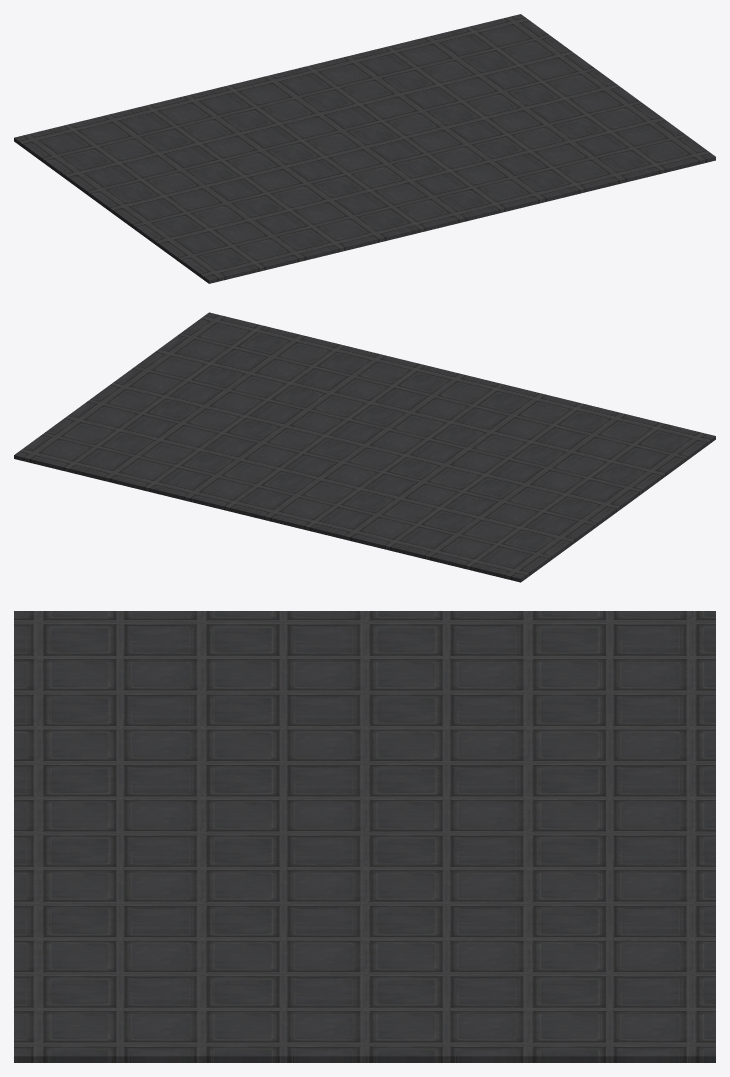
Rendered from Homeworld_Interior_Dq_Room_B_Ceiling_02_Vo.fbx.
3 views of the same model, one above another, from view 1: azimuth 30°, elevation 25°; view 2: azimuth 150°, elevation 25°; view 3: azimuth 270°, elevation 25° (orthographic). The views are drawn at different scales.
Visible parts, largest first — view 1: Homeworld_Interior_Dq_Room_B_Ceiling_01_Vo; view 2: Homeworld_Interior_Dq_Room_B_Ceiling_01_Vo; view 3: Homeworld_Interior_Dq_Room_B_Ceiling_01_Vo.
Boxes of the visible parts, x1,y1,x2,y2 form: Homeworld_Interior_Dq_Room_B_Ceiling_01_Vo: [14, 14, 715, 283]; Homeworld_Interior_Dq_Room_B_Ceiling_01_Vo: [14, 312, 715, 582]; Homeworld_Interior_Dq_Room_B_Ceiling_01_Vo: [14, 611, 715, 1062].
Size of the model in its own units: 15 by 0.105 by 10.
